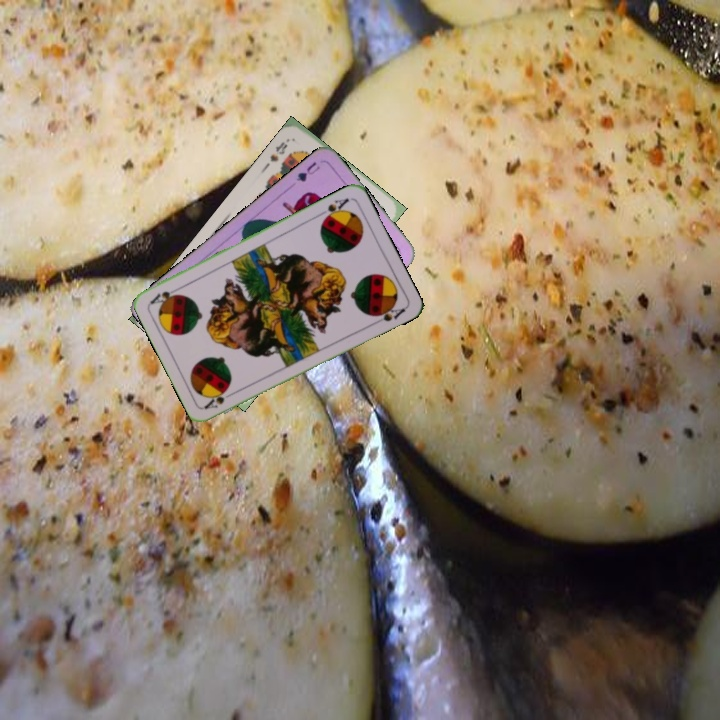GU: (292, 158, 322, 184)
S8: (266, 138, 290, 164)
SA: (314, 194, 352, 224), (200, 386, 239, 412)
